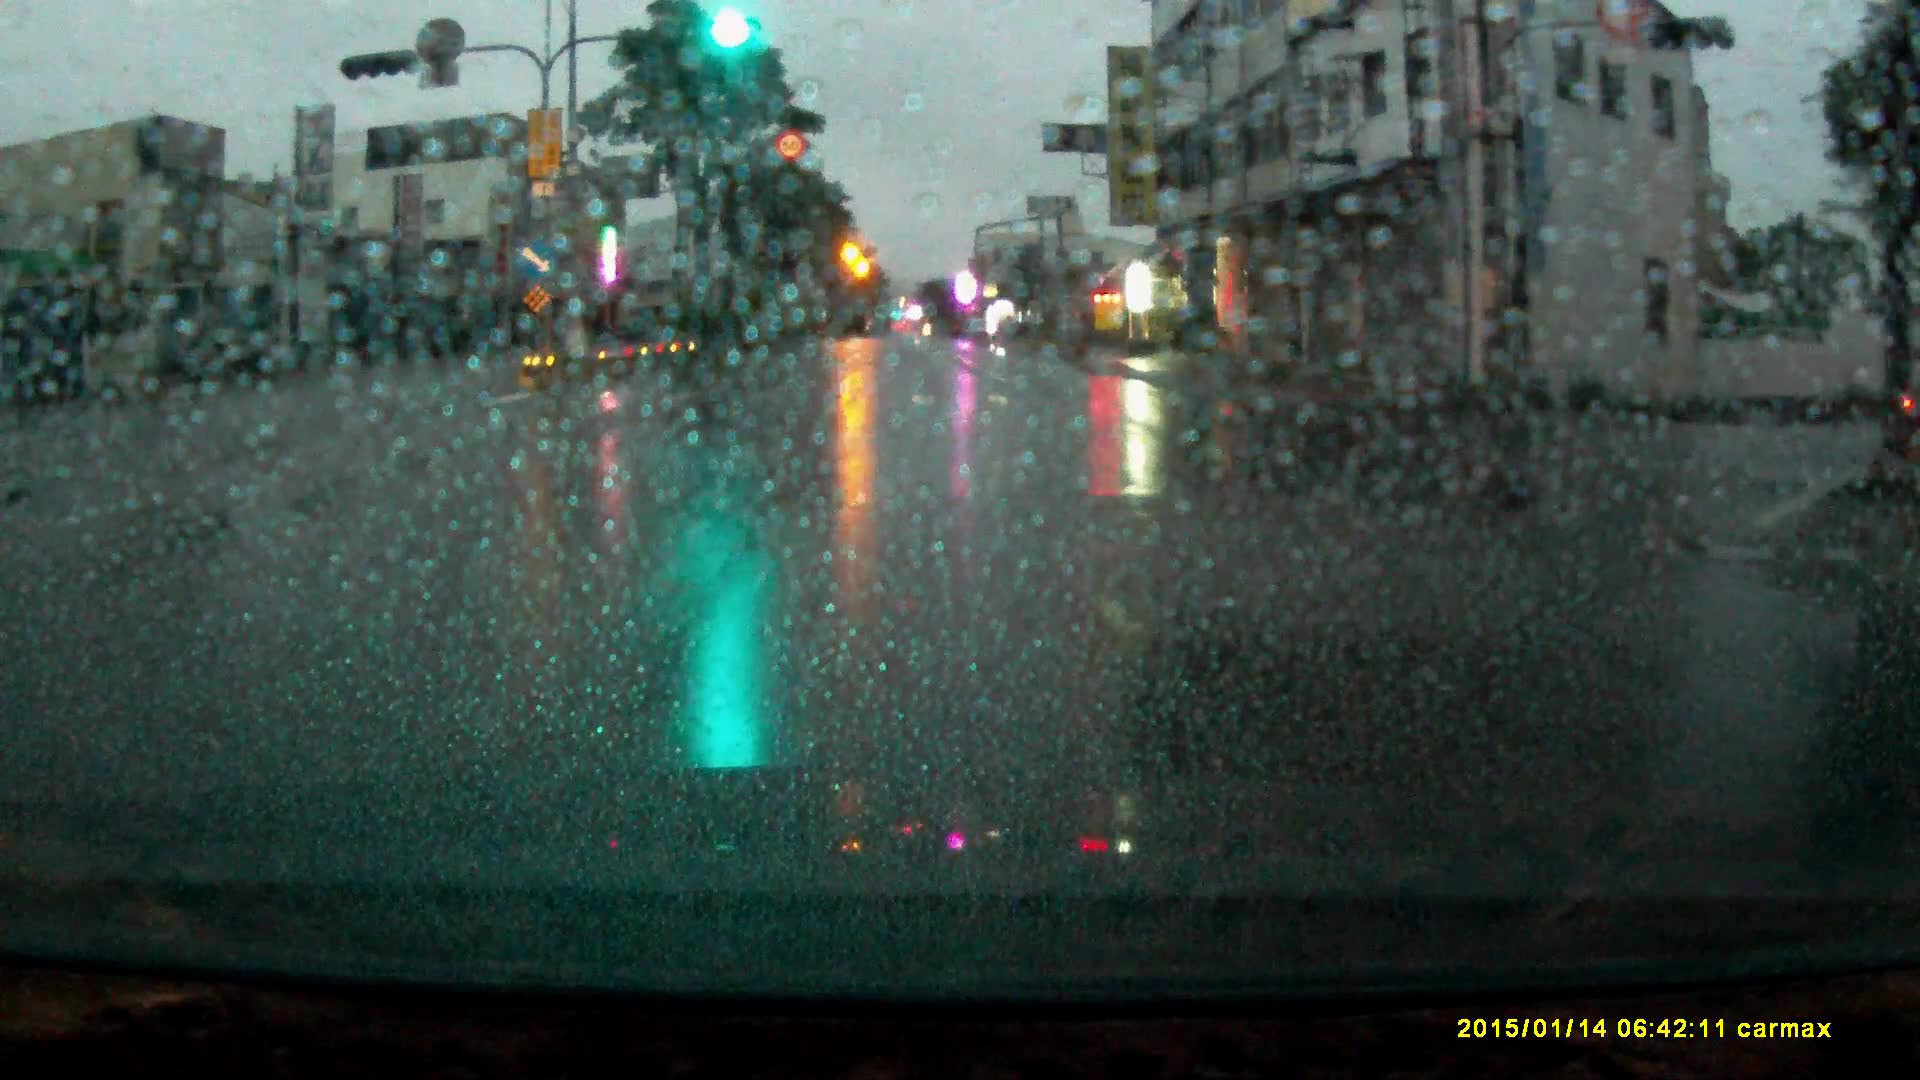rider: (1889, 334, 1920, 441)
